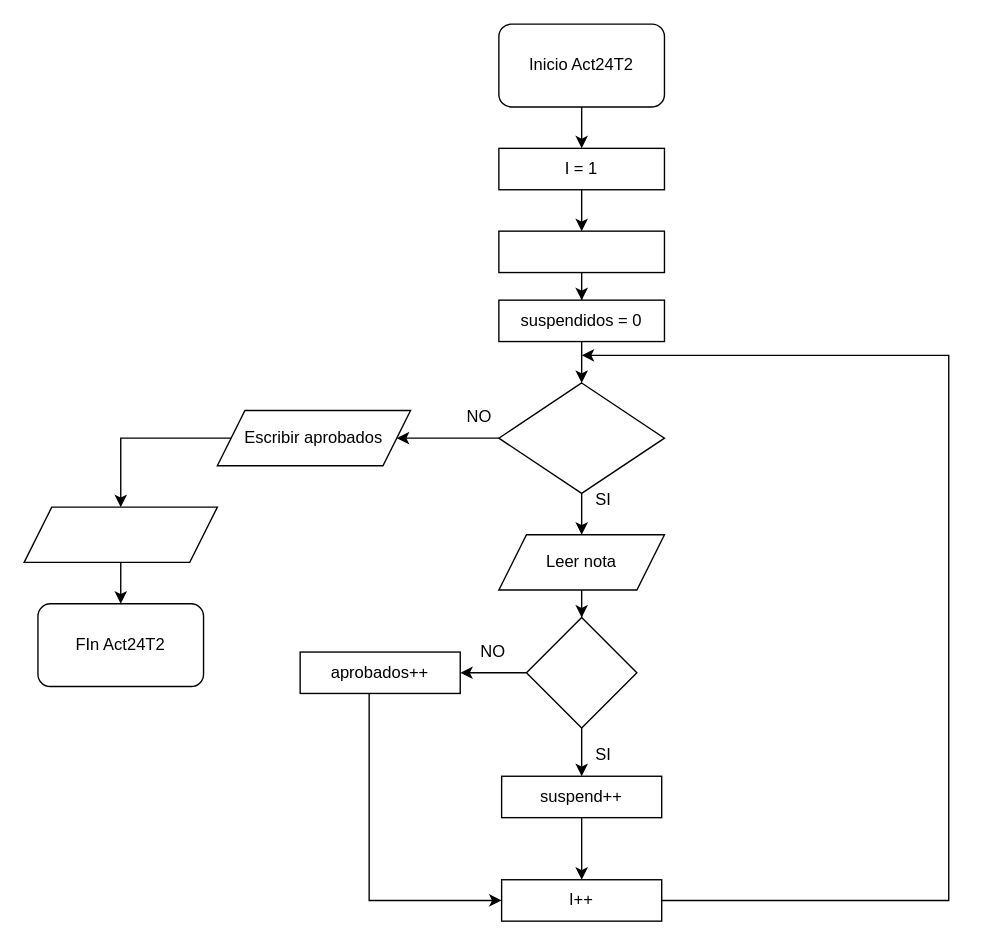
Some shapes in this 984 by 945 pixel diagram are drawn without their labels. Here are the shapes that lost their labels. From the top down, the centre of each, then its label:
(580,251): aprobados = 0
(580,437): I<7
(120,534): Escribir suspendidos
(581,672): nota < 5
